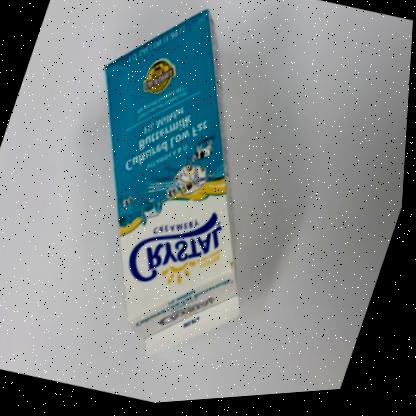Paper: (106, 14, 244, 359)
